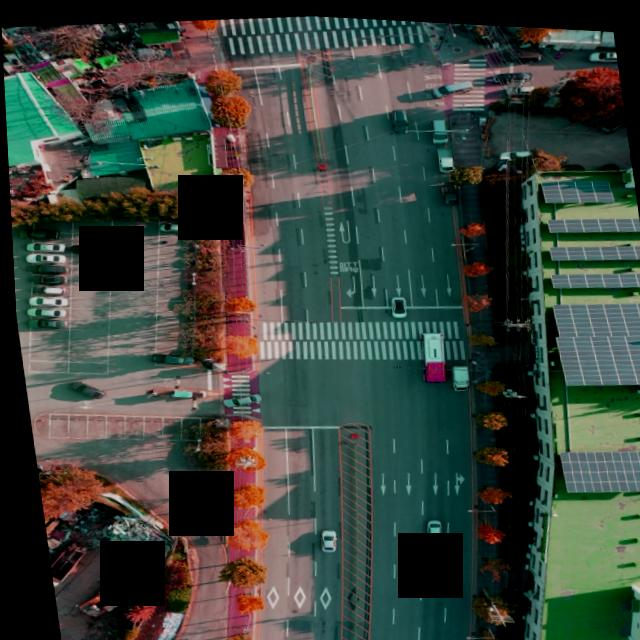car: (60, 376, 105, 402), (429, 72, 477, 96), (210, 387, 262, 409), (144, 348, 193, 368), (61, 239, 109, 259), (17, 315, 67, 333), (487, 61, 531, 80), (11, 225, 59, 242), (19, 250, 65, 267), (591, 108, 625, 130), (386, 101, 410, 132), (20, 260, 65, 276), (20, 271, 63, 287), (21, 238, 63, 254), (26, 281, 65, 298), (427, 112, 447, 140), (23, 294, 63, 308), (153, 218, 188, 234), (584, 42, 617, 58), (22, 306, 59, 319), (494, 143, 533, 155), (384, 290, 404, 313), (312, 525, 331, 549), (417, 515, 436, 538)
large_bus: (413, 326, 445, 381)
medium_truck: (40, 539, 95, 590)
small_truck: (497, 41, 541, 61), (443, 357, 468, 388), (432, 173, 458, 202), (430, 139, 454, 170)
